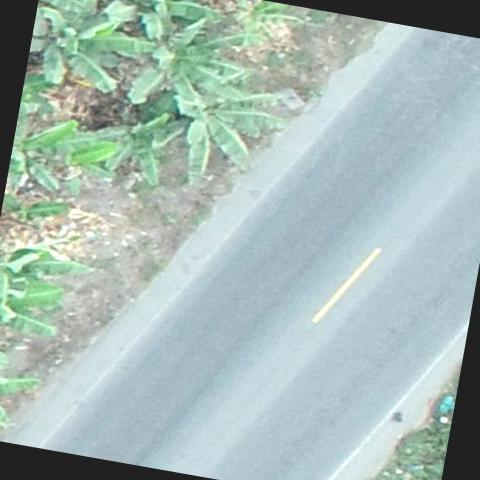Banana-plant: (134, 48, 284, 194), (24, 0, 152, 101), (94, 0, 225, 63)
